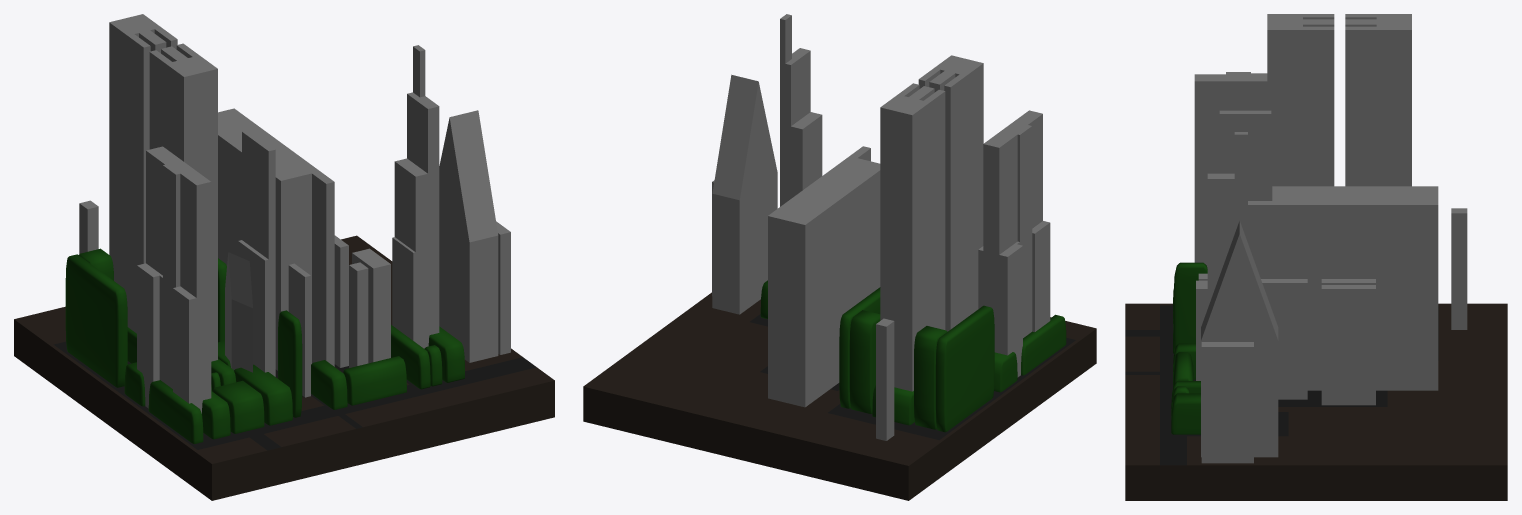
Rendered from Administration Building Area_long_cube.fbx.
3 views of the same model, side by side, from view 1: azimuth 30°, elevation 25°; view 2: azimuth 150°, elevation 25°; view 3: azimuth 270°, elevation 25° (orthographic). The views are drawn at different scales.
Visible parts, largest first — view 1: Admin_l_cube; view 2: Admin_l_cube; view 3: Admin_l_cube.
Boxes of the visible parts, x1,y1,x2,y2 form: Admin_l_cube: [14, 14, 554, 500]; Admin_l_cube: [583, 14, 1096, 500]; Admin_l_cube: [1125, 14, 1507, 500].
Size of the model in its own units: 100 by 100 by 100.
